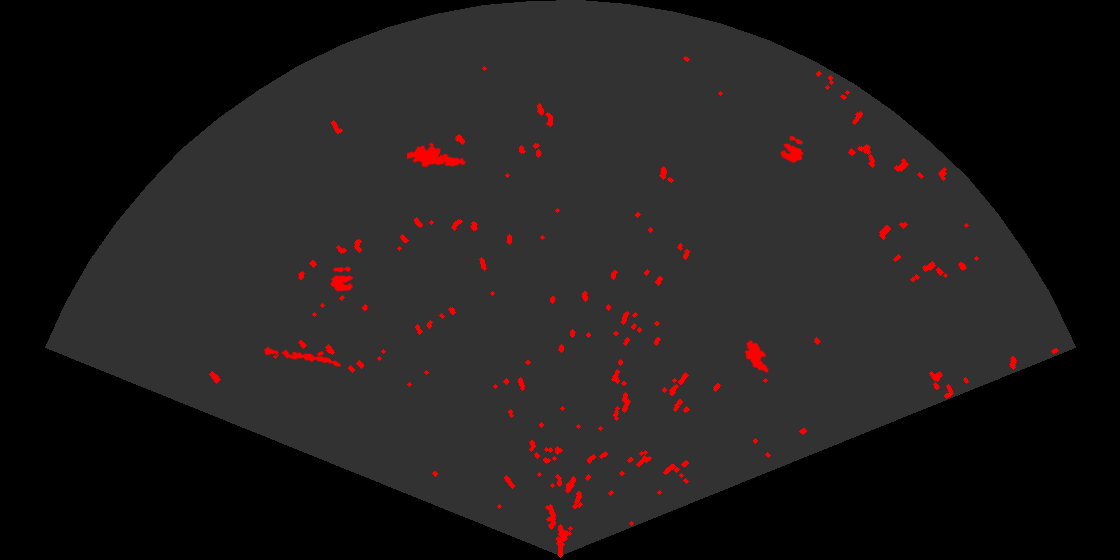AUV: (743, 338, 770, 375)
ball: (778, 134, 805, 165), (329, 265, 355, 293)
chain: (261, 345, 343, 368)
frogman: (407, 141, 468, 169)
